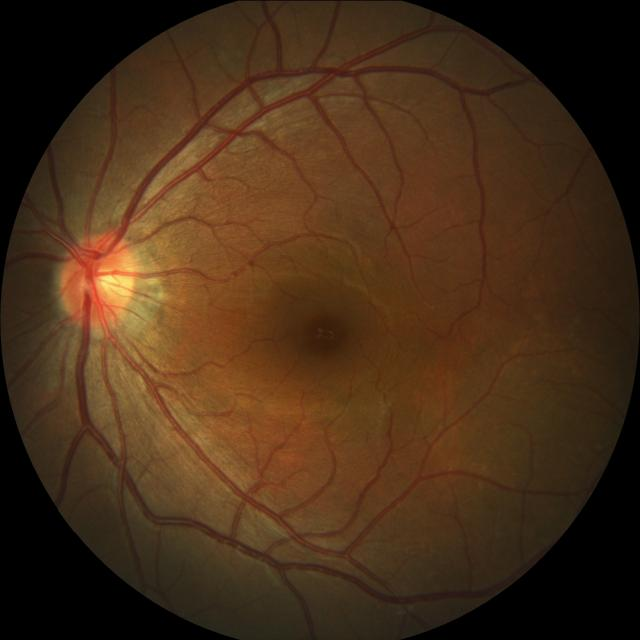OC: (74, 255, 120, 301)
OD: (60, 232, 139, 330)
